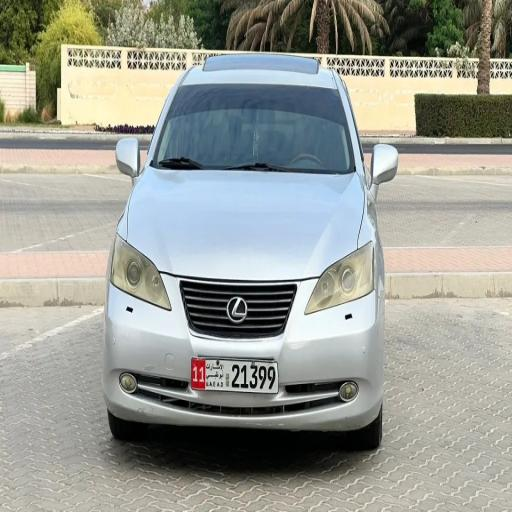license-plates: (191, 358, 278, 393)
